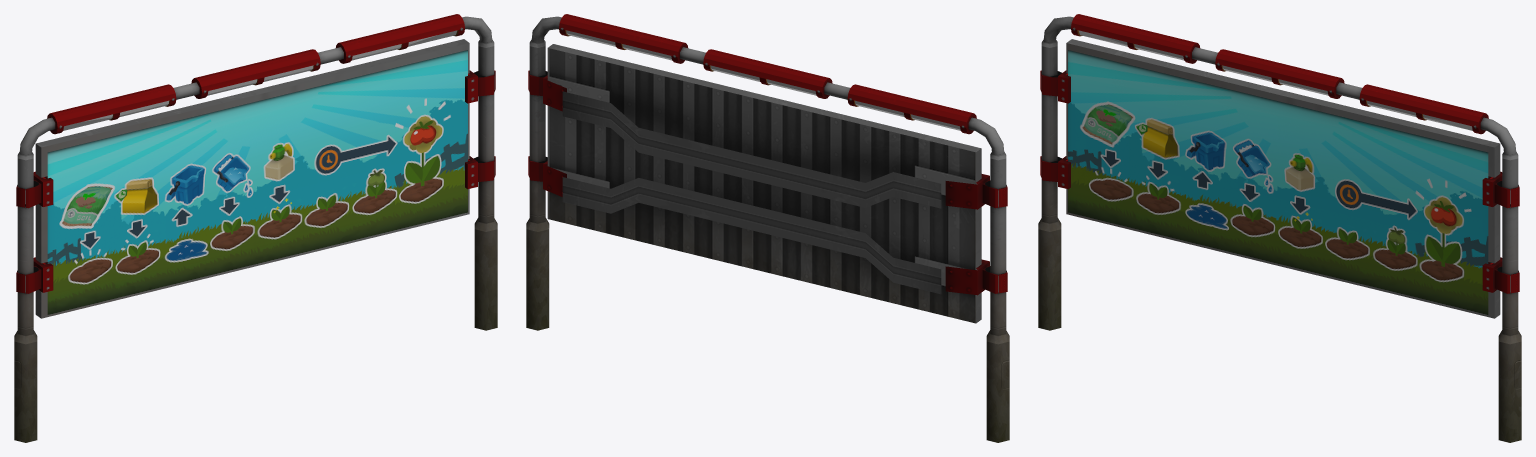
The model's file is env_survivalobjects_farmingbillboard_lod1.fbx.
3 views of the same model, side by side, from view 1: azimuth 30°, elevation 25°; view 2: azimuth 150°, elevation 25°; view 3: azimuth 330°, elevation 25° (orthographic).
Parts seen in each view (by area): view 1: env_survivalobjects_farmingbillboard_lod1; view 2: env_survivalobjects_farmingbillboard_lod1; view 3: env_survivalobjects_farmingbillboard_lod1.
Boxes of the visible parts, left/top/right/bottom form: env_survivalobjects_farmingbillboard_lod1: left=14, top=14, right=497, bottom=442; env_survivalobjects_farmingbillboard_lod1: left=526, top=14, right=1009, bottom=442; env_survivalobjects_farmingbillboard_lod1: left=1038, top=14, right=1521, bottom=442.
Size of the model in its own units: 67.06 by 42 by 5.2.
